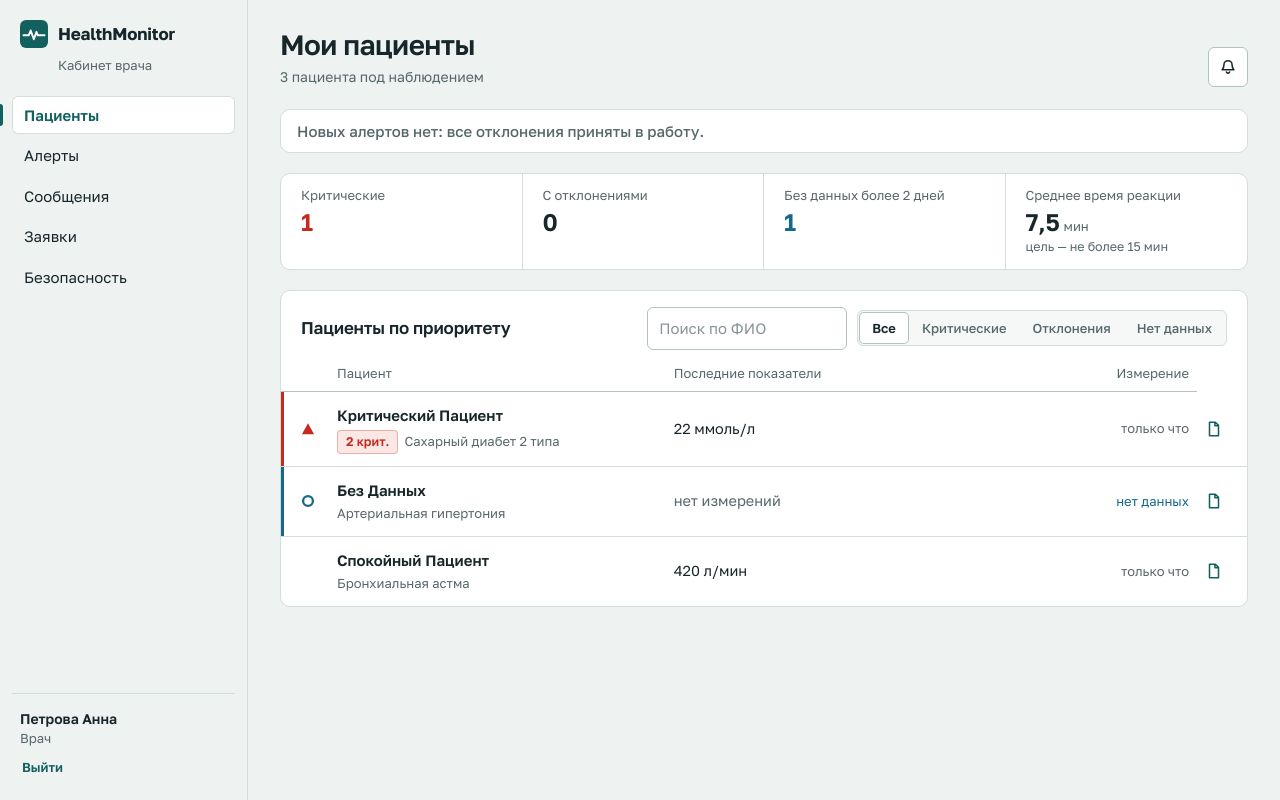
Test case: doctor cabinet › dashboard lists patients in server priority order with badges
The image size is (1280, 800).
Check: the text "Критический Пациент" is shown, box [337, 406, 503, 424]
Check: the text "2 крит." is shown, box [337, 430, 398, 454]
Click the button "Нет данных": (1174, 328) [1125, 313, 1224, 343]
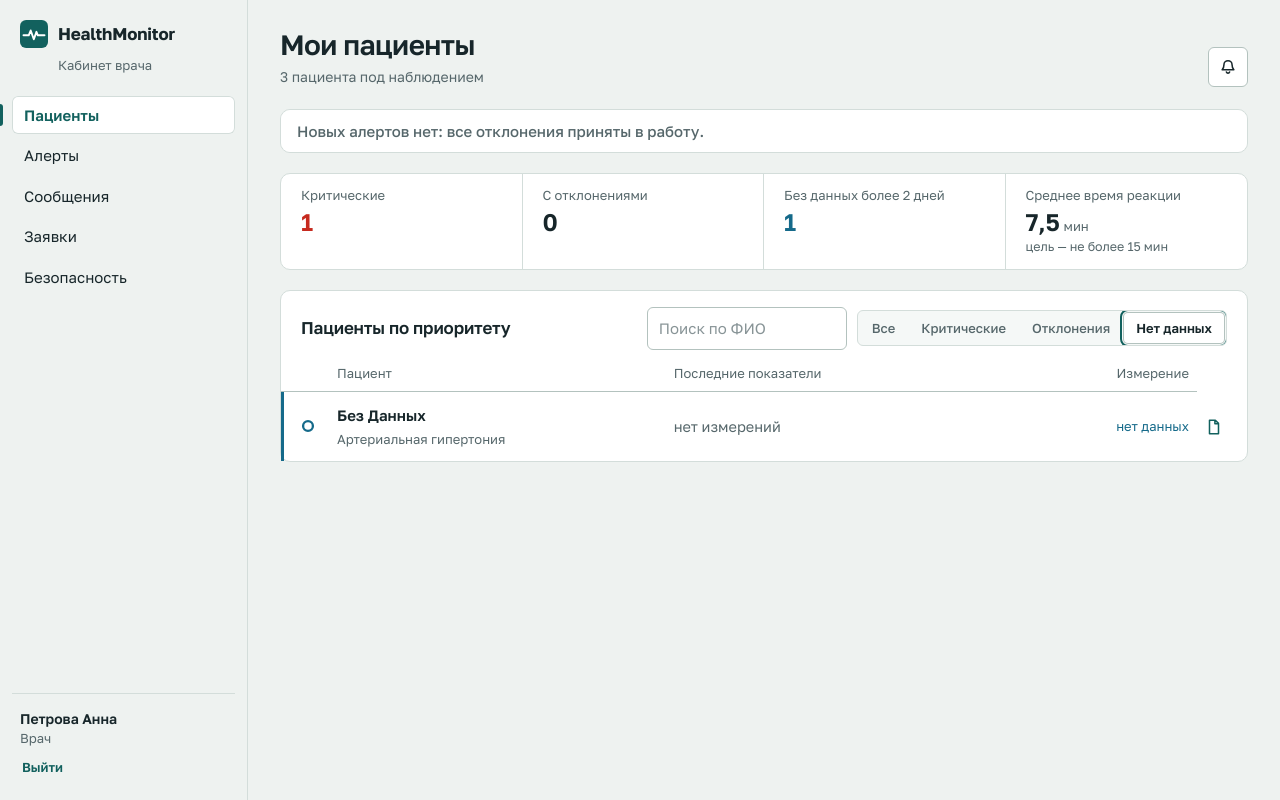
Check: the text "Без Данных" is shown, box [337, 406, 426, 424]
Check: the link "Критический Пациент" is gone
